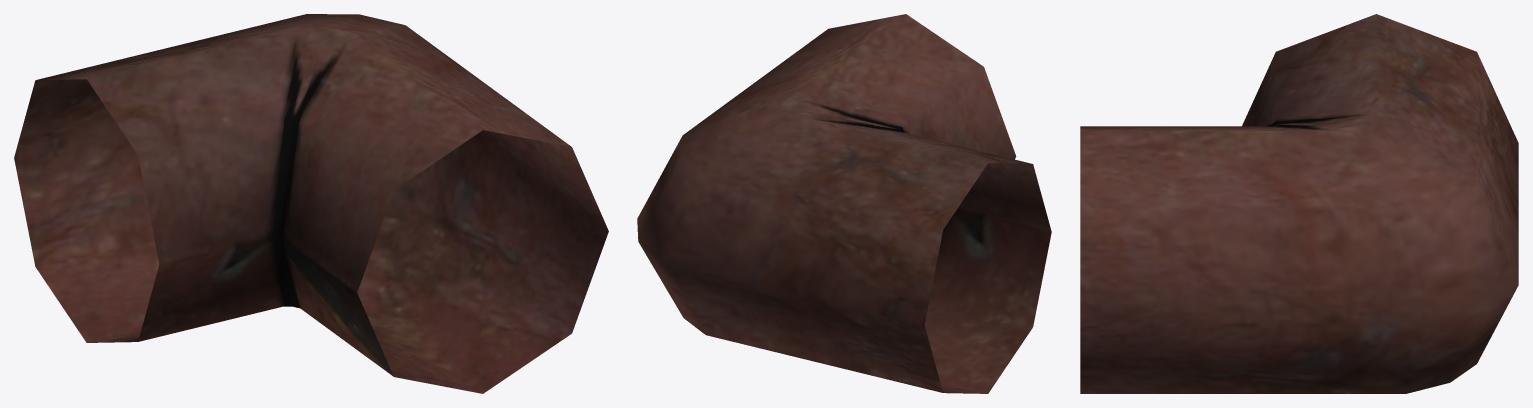
Rendered from RustyThick_Turn.FBX.
The picture shows the model from 3 angles, left to right: view 1: azimuth 30°, elevation 25°; view 2: azimuth 150°, elevation 25°; view 3: azimuth 270°, elevation 25°; orthographic projection. The views are drawn at different scales.
Parts seen in each view (by area): view 1: RustyThick_Turn; view 2: RustyThick_Turn; view 3: RustyThick_Turn.
Part boxes in pixels (x1,y1,x2,y2): RustyThick_Turn: (14,14,608,393); RustyThick_Turn: (637,14,1051,393); RustyThick_Turn: (1080,14,1518,393).
Size of the model in its own units: 76.16 by 51.77 by 79.64.
